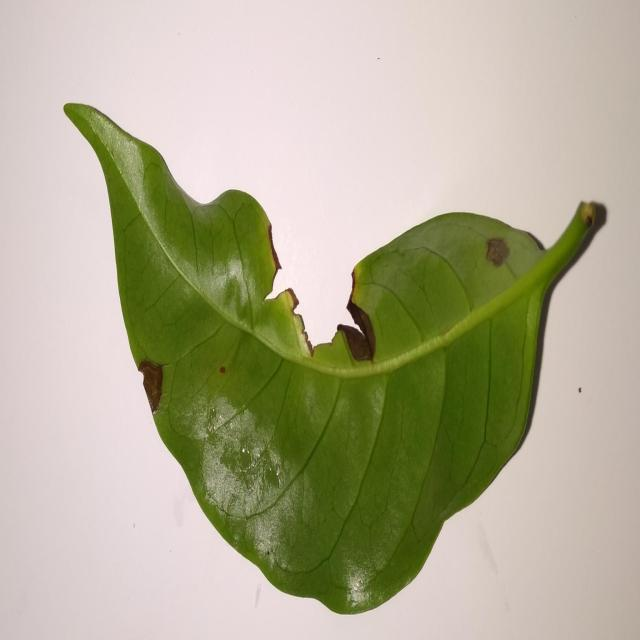Enfermedad-Antracnosis: (62, 102, 608, 618)
